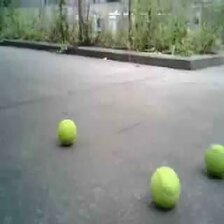tennis: (150, 166, 180, 208), (204, 143, 224, 177), (57, 120, 77, 143)
